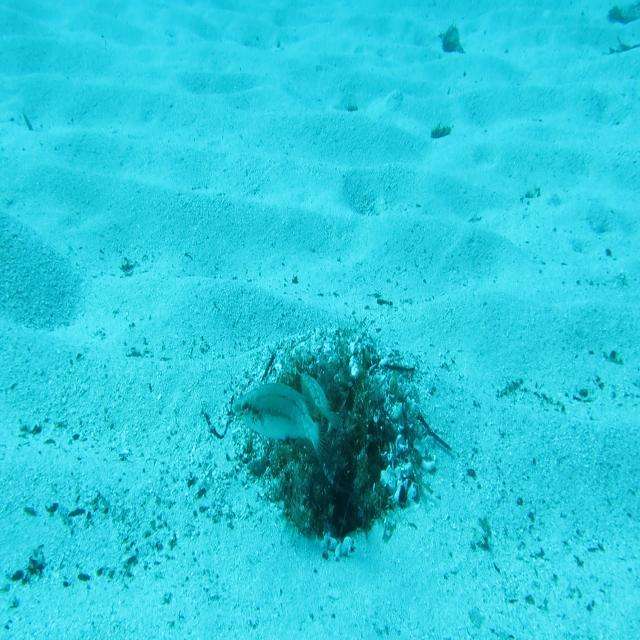NIP_IN: (294, 366, 341, 428)
female: (228, 378, 334, 479)
nest: (224, 318, 444, 574)
vegetation: (600, 0, 640, 58), (438, 26, 469, 56), (430, 122, 453, 142)
